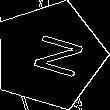N_W: (18, 29, 81, 82)
